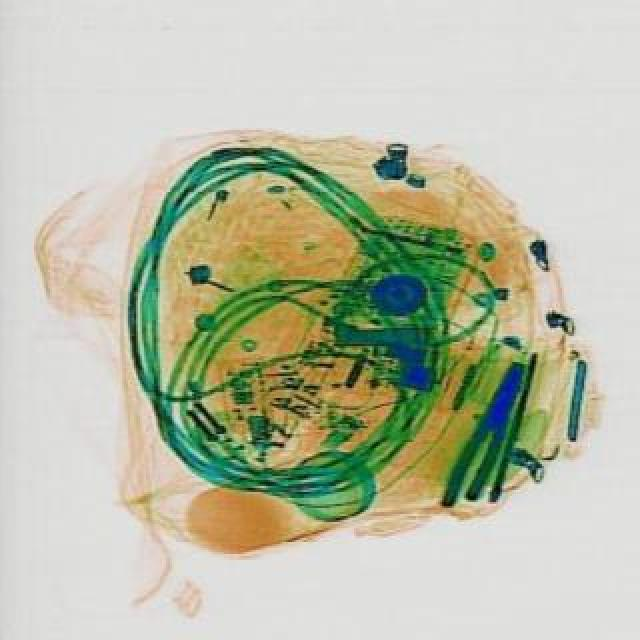wrench: (434, 352, 530, 512)
